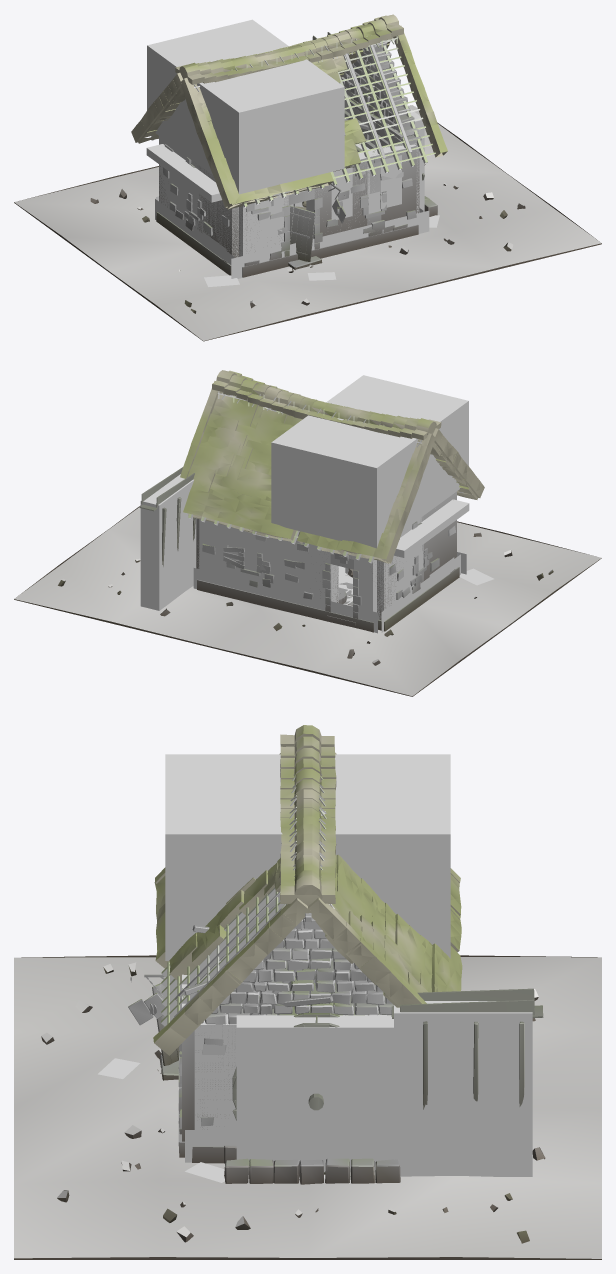
Rendered from bld_mill_shared.glb.
3 views of the same model, one above another, from view 1: azimuth 30°, elevation 25°; view 2: azimuth 150°, elevation 25°; view 3: azimuth 270°, elevation 25° (orthographic). The views are drawn at different scales.
Visible parts, largest first — view 1: ground_mud, col_roof_W, roof_thatch_thatch, decals_mill, wall_S_stones, roof_thatch_rafters, wall_S, col_wall_W_0, gable_E, wall_W_stones, wall_W, col_loft (+7 smaller); view 2: ground_mud, roof_thatch_thatch, col_roof_W, col_flume, col_wall_N_0, wall_N_stones, decals_mill, wall_W_stones, col_wall_W_0, wall_W, col_loft, flume (+2 smaller); view 3: ground_mud, col_roof_W, roof_thatch_thatch, col_wheel, col_flume, gable_E, wheel_pit, flume, col_wall_E_0, roof_thatch_rafters, decals_mill, rafters_bare (+5 smaller).
Part boxes in pixels (x1,y1,x2,y2): ground_mud: (14, 105, 601, 341); col_roof_W: (147, 19, 344, 194); roof_thatch_thatch: (131, 14, 447, 209); decals_mill: (155, 155, 439, 286); wall_S_stones: (242, 158, 418, 277); roof_thatch_rafters: (150, 39, 435, 207); wall_S: (239, 143, 416, 251); col_wall_W_0: (159, 136, 238, 257); gable_E: (341, 40, 421, 144); wall_W_stones: (156, 144, 231, 275); wall_W: (159, 162, 238, 257); col_loft: (146, 144, 221, 202); ground_mud: (14, 505, 601, 696); roof_thatch_thatch: (180, 370, 484, 563); col_roof_W: (271, 375, 468, 548); col_flume: (140, 474, 196, 610); col_wall_N_0: (199, 519, 338, 602); wall_N_stones: (197, 531, 373, 632); decals_mill: (192, 552, 493, 633); wall_W_stones: (378, 499, 459, 631); col_wall_W_0: (377, 508, 435, 620); wall_W: (377, 491, 456, 619); col_loft: (394, 499, 469, 557); flume: (139, 467, 195, 566); ground_mud: (14, 955, 601, 1259); col_roof_W: (165, 754, 450, 960); roof_thatch_thatch: (153, 725, 462, 1055); col_wheel: (236, 1015, 393, 1172); col_flume: (394, 1001, 532, 1176); gable_E: (202, 917, 393, 1024); wheel_pit: (224, 1145, 400, 1184); flume: (391, 988, 543, 1109); col_wall_E_0: (194, 1014, 367, 1129); roof_thatch_rafters: (161, 887, 284, 1026); decals_mill: (98, 1058, 325, 1182); rafters_bare: (174, 891, 333, 1017).
Bounding box in the file's own units: 17 × 7.93 × 14.
